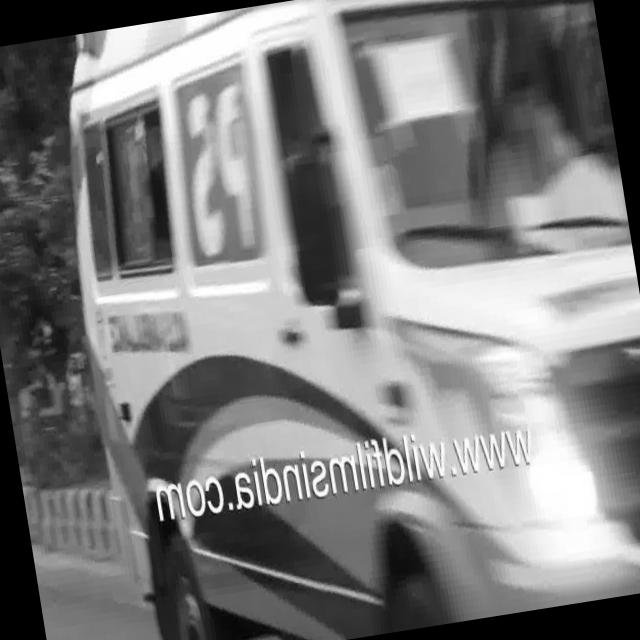ambulance: (25, 0, 640, 470)
